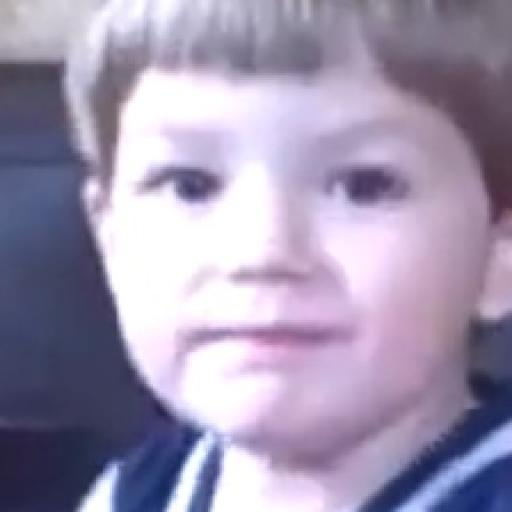Autism: (64, 34, 512, 444)
